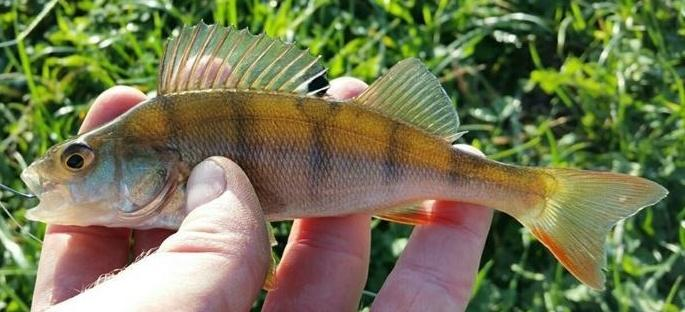Perch: (20, 18, 677, 292)
